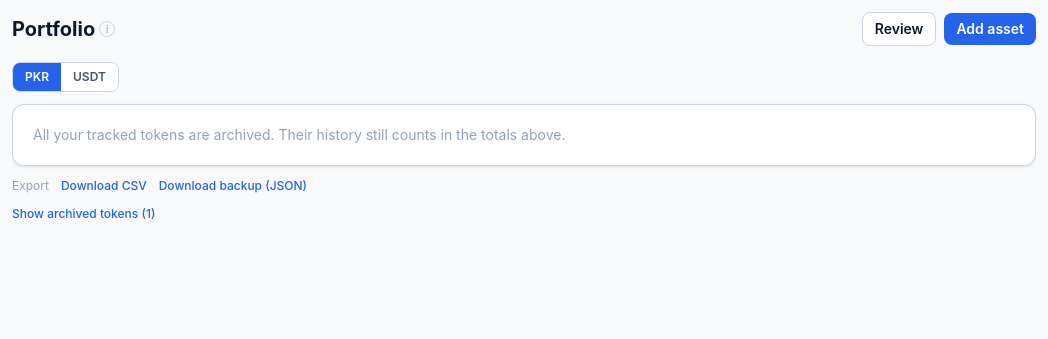
archive and restore › an archived token is read-only until restored
The width and height of the screenshot is (1048, 339).
Click the button "Show archived tokens (1)".
click(84, 214)  # box [12,206,155,222]
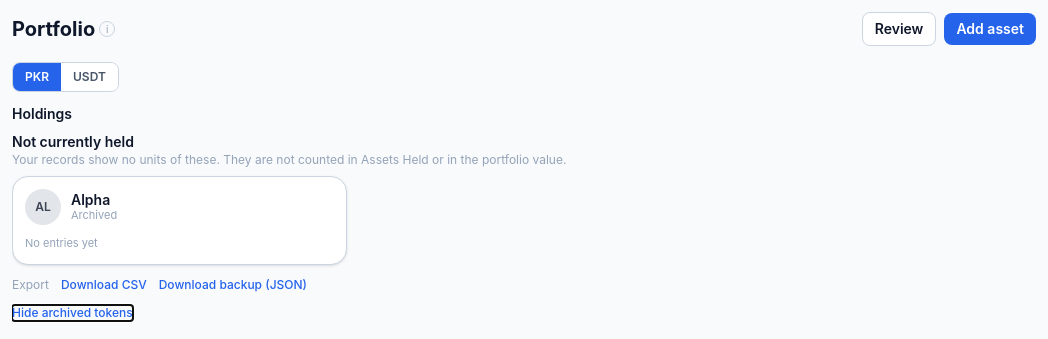
Click the button "AL Alpha Archived No entries yet".
click(43, 207)  # box [12,176,347,264]
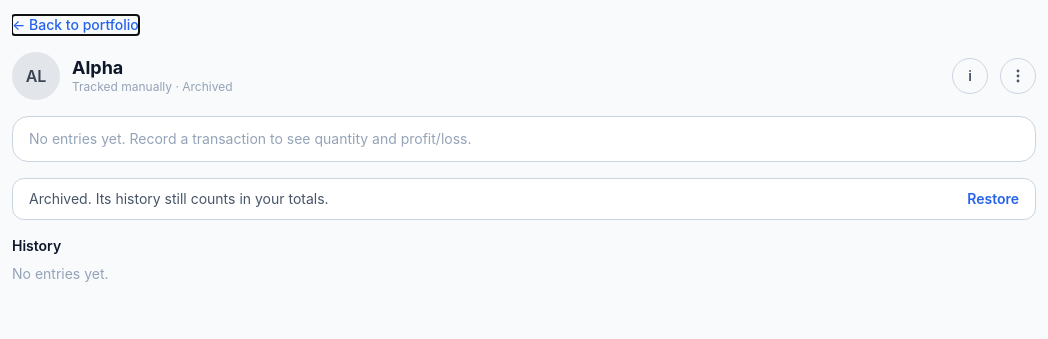
Expected: the button "Record Transaction" is not shown
Expected: the text "Archived. Its history still counts in your totals." is shown, [29,189,329,209]
Click the button named "More actions".
click(1018, 76)  # box [1000,58,1036,94]
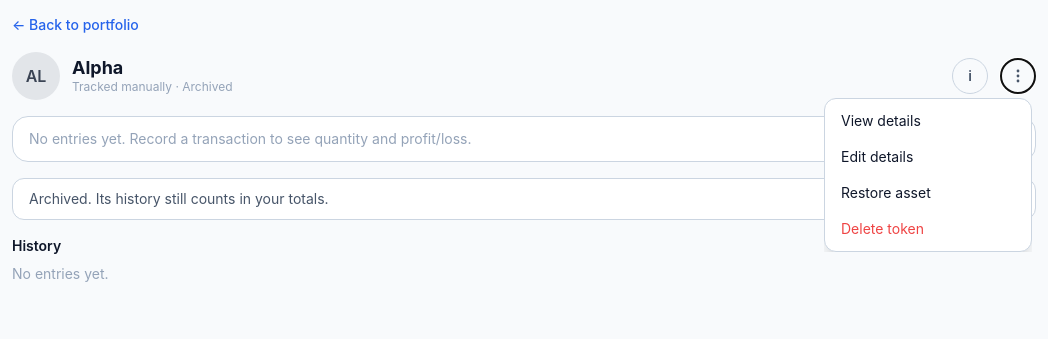
Press Escape
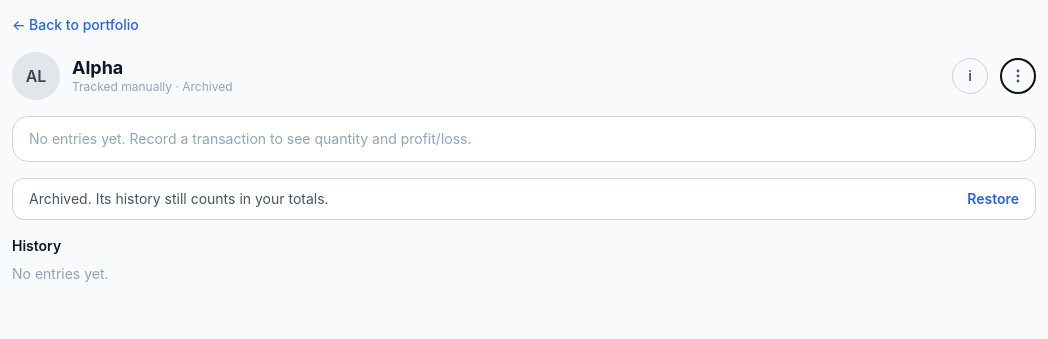
Click the button "Restore".
click(993, 199)  # box [967,189,1019,209]
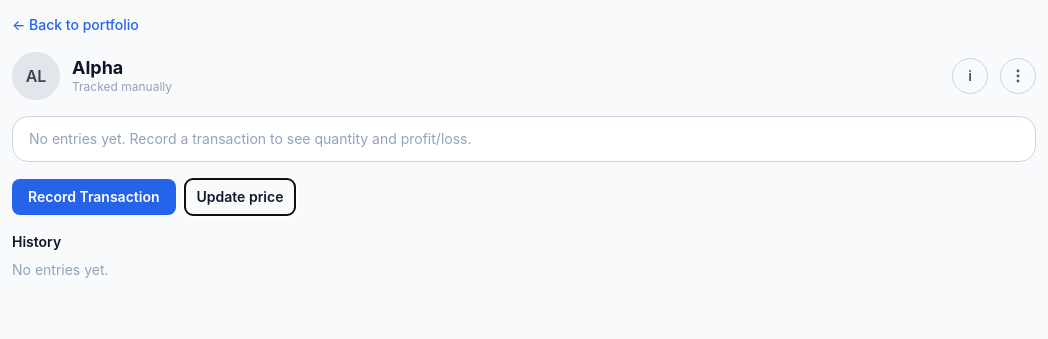
Expected: the button "Record Transaction" is shown, [12,179,176,215]
Expected: the text "still counts in your totals" is gone
